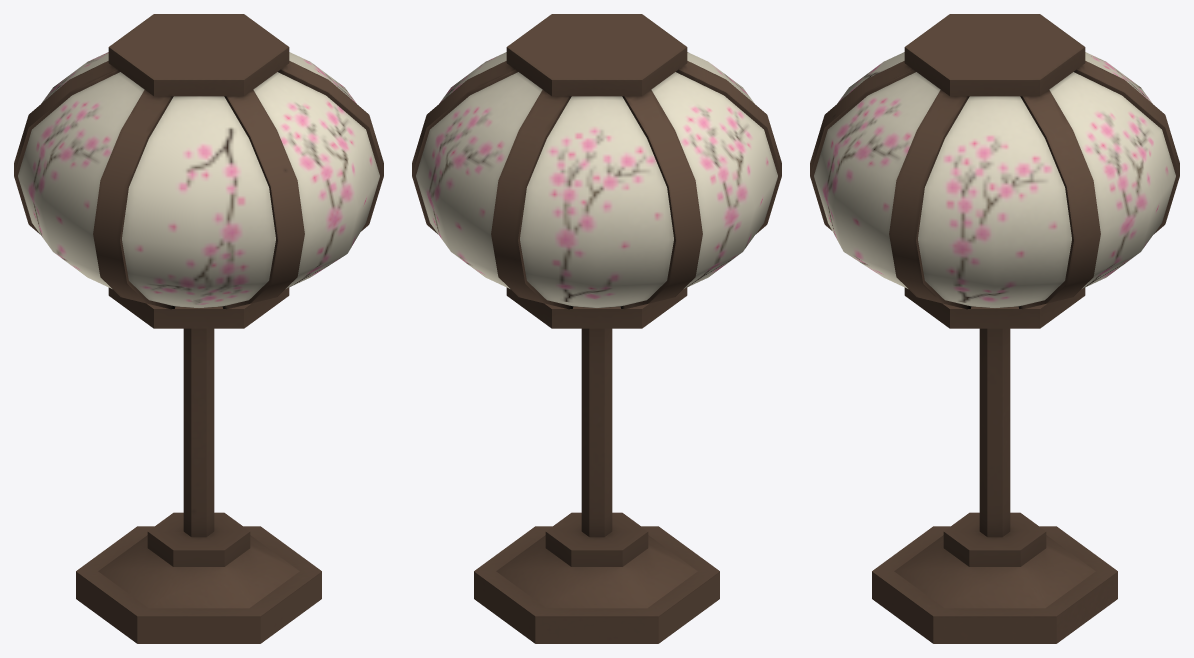
File: C3_lamp_lv3.fbx
3 renders of one model, left to right at view 1: azimuth 30°, elevation 25°; view 2: azimuth 150°, elevation 25°; view 3: azimuth 270°, elevation 25°, orthographic.
Parts seen in each view (by area): view 1: C3_lamp_lv3; view 2: C3_lamp_lv3; view 3: C3_lamp_lv3.
Part boxes in pixels (x1,y1,x2,y2): C3_lamp_lv3: (14,14,383,643); C3_lamp_lv3: (412,14,781,643); C3_lamp_lv3: (810,14,1179,643).
Bounding box in the file's own units: 51.02 × 85.07 × 51.69.
